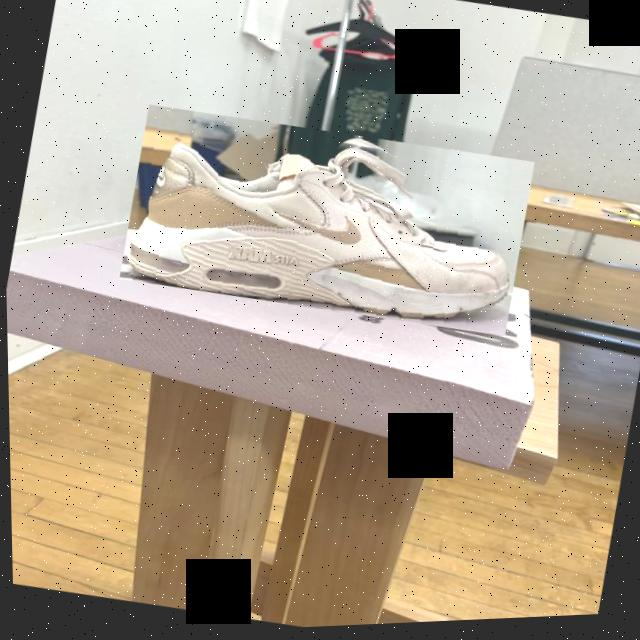shoe: (115, 93, 536, 355)
